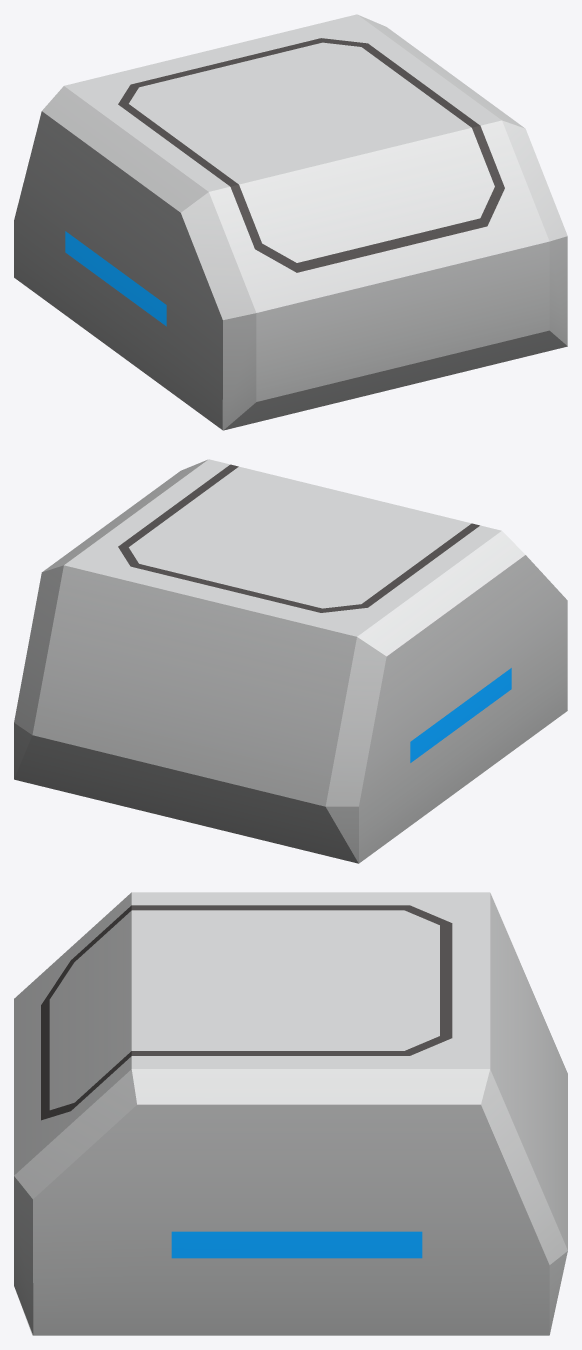
3 views of the same model, one above another, from view 1: azimuth 30°, elevation 25°; view 2: azimuth 150°, elevation 25°; view 3: azimuth 270°, elevation 25° (orthographic). The views are drawn at different scales.
Parts seen in each view (by area): view 1: Box_001; view 2: Box_001; view 3: Box_001.
Part boxes in pixels (x1,y1,x2,y2): Box_001: (14,14,567,430); Box_001: (14,459,567,863); Box_001: (14,892,567,1335).
Bounding box in the file's own units: 0.8 × 0.45 × 0.9.
2 materials, 2 textured.
